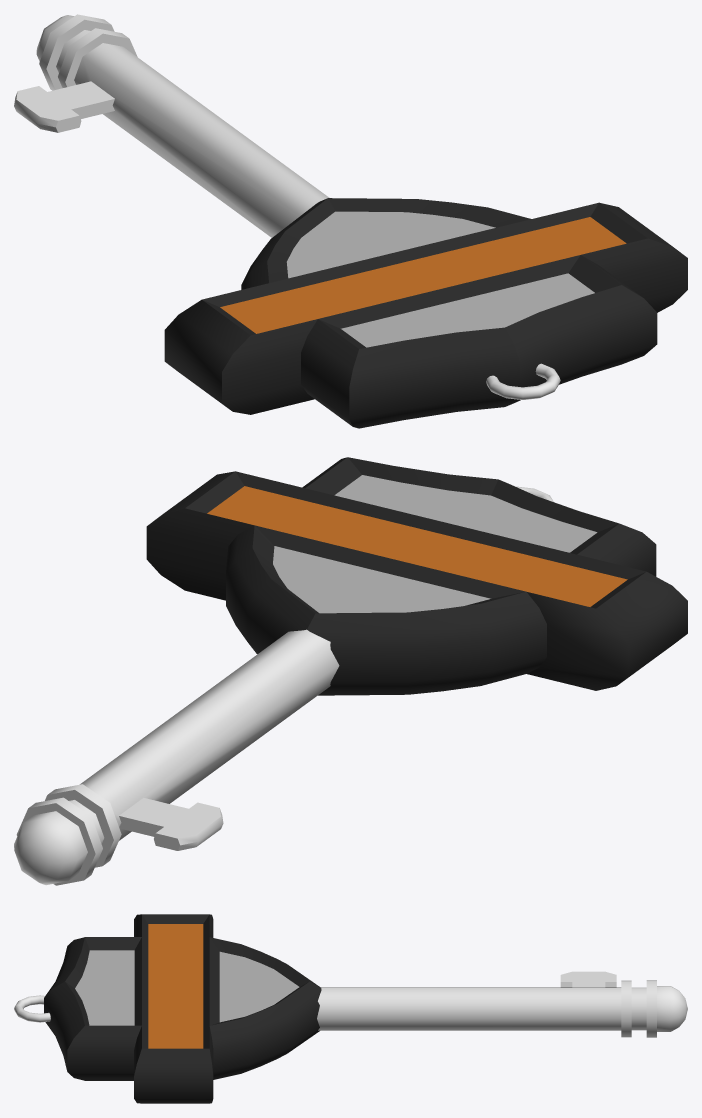
Rendered from MotorcycleKey2.fbx.
3 renders of one model, top to bottom at view 1: azimuth 30°, elevation 25°; view 2: azimuth 150°, elevation 25°; view 3: azimuth 270°, elevation 25°, orthographic. The views are drawn at different scales.
Parts seen in each view (by area): view 1: polySurface6; view 2: polySurface6; view 3: polySurface6.
Part boxes in pixels (x1,y1,x2,y2): polySurface6: [14, 14, 687, 428]; polySurface6: [14, 457, 687, 885]; polySurface6: [14, 914, 687, 1103].
Bounding box in the file's own units: 17.85 × 2.93 × 32.32.
